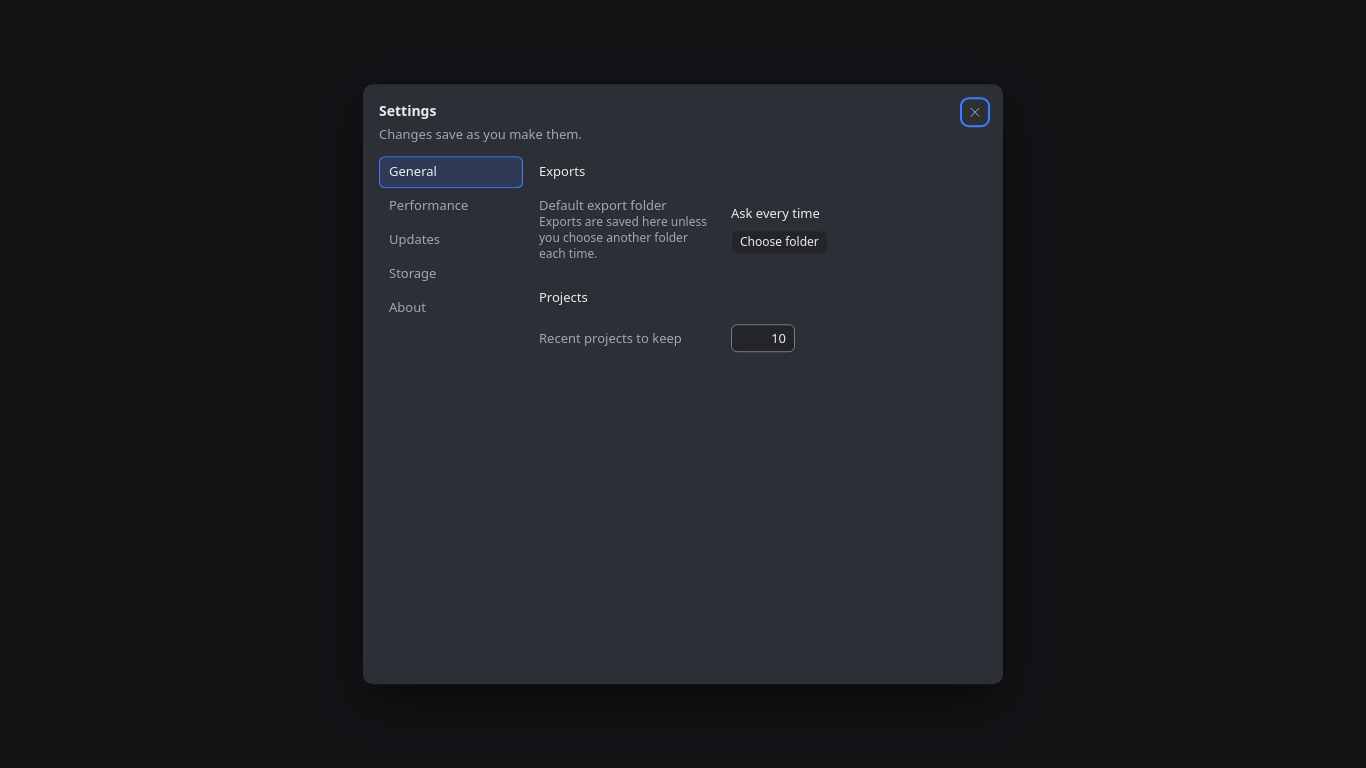
SettingsDialog › shows the probe result per adapter, with a row for each codec
Click the tab "Performance" at (451,206), box [379, 190, 523, 222]
(page scrolled)
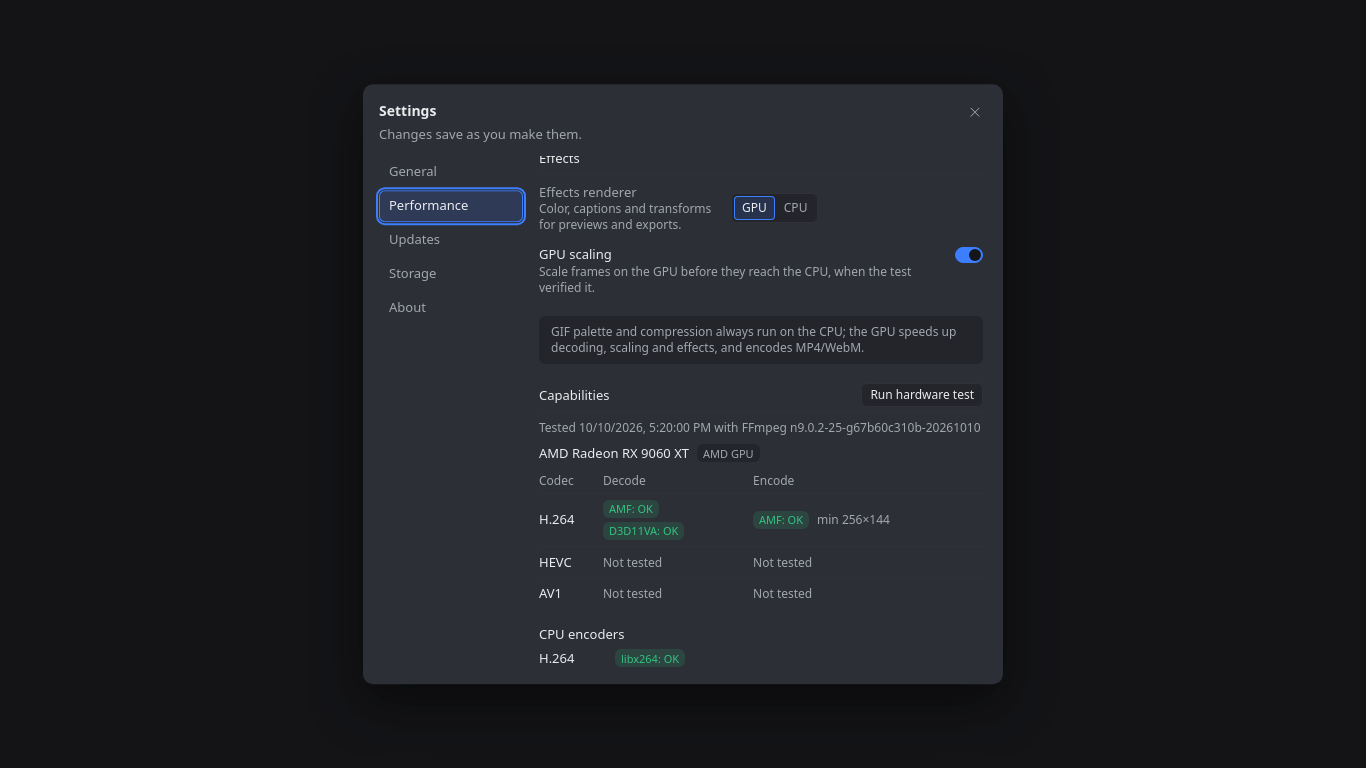
Result: the table is shown at [539, 469, 983, 609]
Result: the column heading "H.264" is shown at [539, 493, 603, 546]
Result: the text "D3D11VA: OK" is shown at [603, 522, 684, 540]
